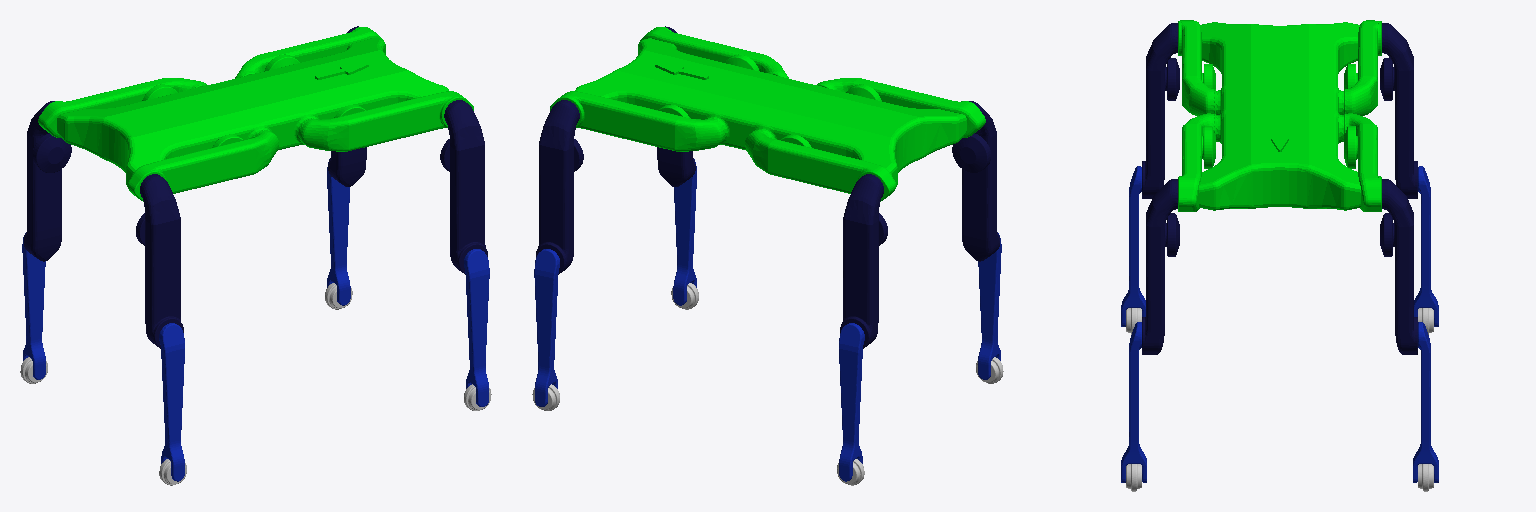
robot.urdf — solo:
<?xml version="1.0" ?>
<!-- =================================================================================== -->
<!-- |    This document was autogenerated by xacro from /usr/local/lib/python3.9/site-packages/robot_properties_solo/resources/xacro/solo8.urdf.xacro | -->
<!-- |    EDITING THIS FILE BY HAND IS NOT RECOMMENDED                                 | -->
<!-- =================================================================================== -->
<robot name="solo" xmlns:controller="http://playerstage.sourceforge.net/gazebo/xmlschema/#controller" xmlns:interface="http://playerstage.sourceforge.net/gazebo/xmlschema/#interface" xmlns:sensor="http://playerstage.sourceforge.net/gazebo/xmlschema/#sensor" xmlns:xacro="http://playerstage.sourceforge.net/gazebo/xmlschema/#interface">
  <!-- This file is based on: https://atlas.is.localnet/confluence/display/AMDW/Quadruped+URDF+Files -->
  <link name="torso_front">
    <!-- BASE LINK INERTIAL -->
    <inertial>
      <origin rpy="0 0 0" xyz="0 0 0"/>
      <mass value="0.71657546"/>
      <!-- The base is extremely symmetrical. -->
      <inertia ixx="0.00289287" ixy="0.0" ixz="0.0" iyy="0.00969054" iyz="0.0" izz="0.01238062"/>
    </inertial>
    <!-- BASE LINK VISUAL -->
    <visual>
      <origin rpy="0 0 0" xyz="0 0 0"/>
      <geometry>
        <mesh filename="../meshes/solo_torso_front.dae"/>
      </geometry>
      <material name="ftorso_mat">
        <color rgba="0.0 0.9 0.1 1"/>
      </material>
    </visual>
    <!-- BASE LINK COLLISION -->
    <collision>
      <origin rpy="0 0 0" xyz="0 0 0"/>
      <geometry>
        <mesh filename="../meshes/solo_torso_front.dae"/>
      </geometry>
    </collision>
    <!-- Bullet specific paramters -->
  </link>
  <!-- SPIN:Between the torso -->
  <joint name="spine_joint" type="fixed">
    <parent link="torso_front"/>
    <child link="torso_back"/>
    <!-- joints rotates around the y-axis -->
    <axis xyz="1 0 0"/>
    <origin rpy="0 0 0" xyz="0 0 0"/>
    <!-- pybullet simulation parameters -->
    <dynamics damping="0.0" friction="0.0"/>
  </joint>
  <link name="torso_back">
    <!-- BASE LINK INERTIAL -->
    <inertial>
      <origin rpy="0 0 0" xyz="0 0 0"/>
      <mass value="0.71657546"/>
      <!-- The base is extremely symmetrical. -->
      <inertia ixx="0.00289287" ixy="0.0" ixz="0.0" iyy="0.00969054" iyz="0.0" izz="0.01238062"/>
    </inertial>
    <!-- BASE LINK VISUAL -->
    <visual>
      <origin rpy="0 0 0" xyz="0 0 0"/>
      <geometry>
        <mesh filename="../meshes/solo_torso_back.dae"/>
      </geometry>
      <material name="btorso_mat">
        <color rgba="0.0 0.9 0.1 1"/>
      </material>
    </visual>
    <!-- BASE LINK COLLISION -->
    <collision>
      <origin rpy="0 0 0" xyz="0 0 0"/>
      <geometry>
        <mesh filename="../meshes/solo_torso_back.dae"/>
      </geometry>
    </collision>
    <!-- Bullet specific paramters -->
  </link>
  <!-- END BASE LINK -->
  <!-- Joint between the base and the ${prefix} upper leg -->
  <joint name="FL_HFE" type="revolute">
    <parent link="torso_front"/>
    <child link="FL_UPPER_LEG"/>
    <limit effort="1.154579" lower="0" upper="1.5707963" velocity="15"/>
    <!-- joints rotates around the y-axis -->
    <axis xyz="0 1 0"/>
    <origin rpy="0 0 0" xyz="0.19 0.1046 0"/>
    <!-- pybullet simulation parameters -->
    <dynamics damping="0.0" friction="0.0"/>
  </joint>
  <link name="FL_UPPER_LEG">
    <!-- Left upper leg inertia -->
    <inertial>
      <origin rpy="0 0 0" xyz="0.00001377 0.01935853 -0.07870700"/>
      <mass value="0.14853845"/>
      <inertia ixx="0.00041107" ixy="0.0" ixz="0.0" iyy="0.00041193" iyz="0.00004671" izz="0.00003024"/>
    </inertial>
    <!-- UPPER LEG LINK VISUAL -->
    <visual>
      <origin rpy="0 0 0" xyz="0 0 0"/>
      <geometry>
        <mesh filename="../meshes/solo_upper_leg_left_side.dae"/>
      </geometry>
      <material name="fthigh_mat">
        <color rgba="0.1 0.1 0.3 1"/>
      </material>
    </visual>
    <!-- UPPER LEG LINK COLLISION -->
    <collision>
      <origin rpy="0 0 0" xyz="0 0 0"/>
      <geometry>
        <mesh filename="../meshes/solo_upper_leg_left_side.dae"/>
      </geometry>
    </collision>
    <!-- Bullet specific paramters -->
  </link>
  <!-- END UPPER LEG LINK -->
  <!-- KFE: Joint between the upper leg and the lower leg -->
  <joint name="FL_KFE" type="revolute">
    <parent link="FL_UPPER_LEG"/>
    <child link="FL_LOWER_LEG"/>
    <limit effort="1.154579" lower="-3.14" upper="0" velocity="15"/>
    <!-- joints rotates around the y-axis -->
    <axis xyz="0 1 0"/>
    <origin rpy="0 0 0" xyz="0 0.037450000000000004 -0.16"/>
    <!-- pybullet simulation parameters -->
    <dynamics damping="0.0" friction="0.0"/>
  </joint>
  <link name="FL_LOWER_LEG">
    <!-- Left lower leg inertia -->
    <inertial>
      <origin rpy="0 0 0" xyz="0.0 0.00787644 -0.08928215"/>
      <mass value="0.03070001"/>
      <inertia ixx="0.00012024" ixy="0.0" ixz="0.0" iyy="0.00012029" iyz="0.00000305" izz="0.00000216"/>
    </inertial>
    <!-- LOWER LEG LINK VISUAL -->
    <visual>
      <origin rpy="0 0 0" xyz="0 0 0"/>
      <geometry>
        <mesh filename="../meshes/solo_lower_leg_left_side.dae"/>
      </geometry>
      <material name="fshin_mat">
        <color rgba="0.1 0.2 0.7 0.4"/>
      </material>
    </visual>
    <!-- LOWER LEG LINK COLLISION -->
    <collision>
      <origin rpy="0 0 0" xyz="0 0 0"/>
      <geometry>
        <mesh filename="../meshes/solo_lower_leg_left_side.dae"/>
      </geometry>
    </collision>
    <!-- Bullet specific paramters -->
  </link>
  <!-- END LOWER LEG LINK -->
  <!-- KFE: Joint between the upper leg and the lower leg -->
  <joint name="FL_ANKLE" type="fixed" dont_collapse="true">
    <parent link="FL_LOWER_LEG"/>
    <child link="FL_FOOT"/>
    <origin rpy="0 0 0" xyz="0 0.008 -0.16"/>
    <!-- pybullet simulation parameters -->
    <dynamics damping="0.0" friction="0.0"/>
  </joint>
  <link name="FL_FOOT">
    <!-- FOOT INERTIAL -->
    <!-- This link is symmetrical left or right -->
    <inertial>
      <origin rpy="0 0 0" xyz="0 0 0.00035767"/>
      <mass value="0.00693606"/>
      <inertia ixx="0.00000057" ixy="0.0" ixz="0.0" iyy="0.00000084" iyz="0.0" izz="0.00000053"/>
    </inertial>
    <!-- FOOT VISUAL -->
    <visual>
      <origin rpy="0 0 0" xyz="0 0 0"/>
      <geometry>
        <mesh filename="../meshes/solo_foot.dae"/>
      </geometry>
      <material name="grey">
        <color rgba="0.8 0.8 0.8 1.0"/>
      </material>
    </visual>
    <!-- FOOT COLLISION -->
    <collision>
      <origin rpy="0 0 0" xyz="0 0 0"/>
      <geometry>
        <sphere radius="0.02"/>
      </geometry>
    </collision>
    <!-- Bullet specific paramters -->
  </link>
  <!-- END LOWER LEG LINK -->
  <!-- Joint between the base and the ${prefix} upper leg -->
  <joint name="FR_HFE" type="revolute">
    <parent link="torso_front"/>
    <child link="FR_UPPER_LEG"/>
    <limit effort="1.154579" lower="0" upper="1.5707963" velocity="15"/>
    <!-- joints rotates around the y-axis -->
    <axis xyz="0 1 0"/>
    <origin rpy="0 0 0" xyz="0.19 -0.1046 0"/>
    <!-- pybullet simulation parameters -->
    <dynamics damping="0.0" friction="0.0"/>
  </joint>
  <link name="FR_UPPER_LEG">
    <!-- Right upper leg inertia -->
    <inertial>
      <origin rpy="0 0 0" xyz="-0.00001377 -0.01935853 -0.07870700"/>
      <mass value="0.14853845"/>
      <inertia ixx="0.00041107" ixy="0.0" ixz="0.0" iyy="0.00041193" iyz="-0.00004671" izz="0.00003024"/>
    </inertial>
    <!-- UPPER LEG LINK VISUAL -->
    <visual>
      <origin rpy="0 0 0" xyz="0 0 0"/>
      <geometry>
        <mesh filename="../meshes/solo_upper_leg_right_side.dae"/>
      </geometry>
      <material name="fthigh_mat">
        <color rgba="0.1 0.1 0.3 1"/>
      </material>
    </visual>
    <!-- UPPER LEG LINK COLLISION -->
    <collision>
      <origin rpy="0 0 0" xyz="0 0 0"/>
      <geometry>
        <mesh filename="../meshes/solo_upper_leg_right_side.dae"/>
      </geometry>
    </collision>
    <!-- Bullet specific paramters -->
  </link>
  <!-- END UPPER LEG LINK -->
  <!-- KFE: Joint between the upper leg and the lower leg -->
  <joint name="FR_KFE" type="revolute">
    <parent link="FR_UPPER_LEG"/>
    <child link="FR_LOWER_LEG"/>
    <limit effort="1.154579" lower="-3.14" upper="0" velocity="15"/>
    <!-- joints rotates around the y-axis -->
    <axis xyz="0 1 0"/>
    <origin rpy="0 0 0" xyz="0 -0.037450000000000004 -0.16"/>
    <!-- pybullet simulation parameters -->
    <dynamics damping="0.0" friction="0.0"/>
  </joint>
  <link name="FR_LOWER_LEG">
    <!-- Right lower leg inertia -->
    <inertial>
      <origin rpy="0 0 0" xyz="0.0 0.00787644 -0.08928215"/>
      <mass value="0.03070001"/>
      <inertia ixx="0.00012024" ixy="0.0" ixz="0.0" iyy="0.00012029" iyz="-0.00000305" izz="0.00000216"/>
    </inertial>
    <!-- LOWER LEG LINK VISUAL -->
    <visual>
      <origin rpy="0 0 0" xyz="0 0 0"/>
      <geometry>
        <mesh filename="../meshes/solo_lower_leg_right_side.dae"/>
      </geometry>
      <material name="fshin_mat">
        <color rgba="0.1 0.2 0.7 0.4"/>
      </material>
    </visual>
    <!-- LOWER LEG LINK COLLISION -->
    <collision>
      <origin rpy="0 0 0" xyz="0 0 0"/>
      <geometry>
        <mesh filename="../meshes/solo_lower_leg_right_side.dae"/>
      </geometry>
    </collision>
    <!-- Bullet specific paramters -->
  </link>
  <!-- END LOWER LEG LINK -->
  <!-- KFE: Joint between the upper leg and the lower leg -->
  <joint name="FR_ANKLE" type="fixed" dont_collapse="true">
    <parent link="FR_LOWER_LEG"/>
    <child link="FR_FOOT"/>
    <origin rpy="0 0 0" xyz="0 -0.008 -0.16"/>
    <!-- pybullet simulation parameters -->
    <dynamics damping="0.0" friction="0.0"/>
  </joint>
  <link name="FR_FOOT">
    <!-- FOOT INERTIAL -->
    <!-- This link is symmetrical left or right -->
    <inertial>
      <origin rpy="0 0 0" xyz="0 0 0.00035767"/>
      <mass value="0.00693606"/>
      <inertia ixx="0.00000057" ixy="0.0" ixz="0.0" iyy="0.00000084" iyz="0.0" izz="0.00000053"/>
    </inertial>
    <!-- FOOT VISUAL -->
    <visual>
      <origin rpy="0 0 0" xyz="0 0 0"/>
      <geometry>
        <mesh filename="../meshes/solo_foot.dae"/>
      </geometry>
      <material name="grey">
        <color rgba="0.8 0.8 0.8 1.0"/>
      </material>
    </visual>
    <!-- FOOT COLLISION -->
    <collision>
      <origin rpy="0 0 0" xyz="0 0 0"/>
      <geometry>
        <sphere radius="0.02"/>
      </geometry>
    </collision>
    <!-- Bullet specific paramters -->
  </link>
  <!-- END LOWER LEG LINK -->
  <!-- Joint between the base and the ${prefix} upper leg -->
  <joint name="HL_HFE" type="revolute">
    <parent link="torso_back"/>
    <child link="HL_UPPER_LEG"/>
    <limit effort="1.154579" lower="-1.5707963" upper="0" velocity="15"/>
    <!-- joints rotates around the y-axis -->
    <axis xyz="0 1 0"/>
    <origin rpy="0 0 0" xyz="-0.19 0.1046 0"/>
    <!-- pybullet simulation parameters -->
    <dynamics damping="0.0" friction="0.0"/>
  </joint>
  <link name="HL_UPPER_LEG">
    <!-- Left upper leg inertia -->
    <inertial>
      <origin rpy="0 0 0" xyz="0.00001377 0.01935853 -0.07870700"/>
      <mass value="0.14853845"/>
      <inertia ixx="0.00041107" ixy="0.0" ixz="0.0" iyy="0.00041193" iyz="0.00004671" izz="0.00003024"/>
    </inertial>
    <!-- UPPER LEG LINK VISUAL -->
    <visual>
      <origin rpy="0 0 0" xyz="0 0 0"/>
      <geometry>
        <mesh filename="../meshes/solo_upper_leg_left_side.dae"/>
      </geometry>
      <material name="bthigh_mat">
        <color rgba="0.1 0.1 0.3 1"/>
      </material>
    </visual>
    <!-- UPPER LEG LINK COLLISION -->
    <collision>
      <origin rpy="0 0 0" xyz="0 0 0"/>
      <geometry>
        <mesh filename="../meshes/solo_upper_leg_left_side.dae"/>
      </geometry>
    </collision>
    <!-- Bullet specific paramters -->
  </link>
  <!-- END UPPER LEG LINK -->
  <!-- KFE: Joint between the upper leg and the lower leg -->
  <joint name="HL_KFE" type="revolute">
    <parent link="HL_UPPER_LEG"/>
    <child link="HL_LOWER_LEG"/>
    <limit effort="1.154579" lower="0" upper="3.14" velocity="15"/>
    <!-- joints rotates around the y-axis -->
    <axis xyz="0 1 0"/>
    <origin rpy="0 0 0" xyz="0 0.037450000000000004 -0.16"/>
    <!-- pybullet simulation parameters -->
    <dynamics damping="0.0" friction="0.0"/>
  </joint>
  <link name="HL_LOWER_LEG">
    <!-- Left lower leg inertia -->
    <inertial>
      <origin rpy="0 0 0" xyz="0.0 0.00787644 -0.08928215"/>
      <mass value="0.03070001"/>
      <inertia ixx="0.00012024" ixy="0.0" ixz="0.0" iyy="0.00012029" iyz="0.00000305" izz="0.00000216"/>
    </inertial>
    <!-- LOWER LEG LINK VISUAL -->
    <visual>
      <origin rpy="0 0 0" xyz="0 0 0"/>
      <geometry>
        <mesh filename="../meshes/solo_lower_leg_left_side.dae"/>
      </geometry>
      <material name="bshin_mat">
        <color rgba="0.1 0.2 0.7 0.4"/>
      </material>
    </visual>
    <!-- LOWER LEG LINK COLLISION -->
    <collision>
      <origin rpy="0 0 0" xyz="0 0 0"/>
      <geometry>
        <mesh filename="../meshes/solo_lower_leg_left_side.dae"/>
      </geometry>
    </collision>
    <!-- Bullet specific paramters -->
  </link>
  <!-- END LOWER LEG LINK -->
  <!-- KFE: Joint between the upper leg and the lower leg -->
  <joint name="HL_ANKLE" type="fixed" dont_collapse="true">
    <parent link="HL_LOWER_LEG"/>
    <child link="HL_FOOT"/>
    <origin rpy="0 0 0" xyz="0 0.008 -0.16"/>
    <!-- pybullet simulation parameters -->
    <dynamics damping="0.0" friction="0.0"/>
  </joint>
  <link name="HL_FOOT">
    <!-- FOOT INERTIAL -->
    <!-- This link is symmetrical left or right -->
    <inertial>
      <origin rpy="0 0 0" xyz="0 0 0.00035767"/>
      <mass value="0.00693606"/>
      <inertia ixx="0.00000057" ixy="0.0" ixz="0.0" iyy="0.00000084" iyz="0.0" izz="0.00000053"/>
    </inertial>
    <!-- FOOT VISUAL -->
    <visual>
      <origin rpy="0 0 0" xyz="0 0 0"/>
      <geometry>
        <mesh filename="../meshes/solo_foot.dae"/>
      </geometry>
      <material name="grey">
        <color rgba="0.8 0.8 0.8 1.0"/>
      </material>
    </visual>
    <!-- FOOT COLLISION -->
    <collision>
      <origin rpy="0 0 0" xyz="0 0 0"/>
      <geometry>
        <sphere radius="0.02"/>
      </geometry>
    </collision>
    <!-- Bullet specific paramters -->
  </link>
  <!-- END LOWER LEG LINK -->
  <!-- Joint between the base and the ${prefix} upper leg -->
  <joint name="HR_HFE" type="revolute">
    <parent link="torso_back"/>
    <child link="HR_UPPER_LEG"/>
    <!-- joints rotates around the y-axis -->
    <limit effort="1.154579" lower="-1.5707963" upper="0" velocity="15"/>
    <axis xyz="0 1 0"/>
    <origin rpy="0 0 0" xyz="-0.19 -0.1046 0"/>
    <!-- pybullet simulation parameters -->
    <dynamics damping="0.0" friction="0.0"/>
  </joint>
  <link name="HR_UPPER_LEG">
    <!-- Right upper leg inertia -->
    <inertial>
      <origin rpy="0 0 0" xyz="-0.00001377 -0.01935853 -0.07870700"/>
      <mass value="0.14853845"/>
      <inertia ixx="0.00041107" ixy="0.0" ixz="0.0" iyy="0.00041193" iyz="-0.00004671" izz="0.00003024"/>
    </inertial>
    <!-- UPPER LEG LINK VISUAL -->
    <visual>
      <origin rpy="0 0 0" xyz="0 0 0"/>
      <geometry>
        <mesh filename="../meshes/solo_upper_leg_right_side.dae"/>
      </geometry>
      <material name="bthigh_mat">
        <color rgba="0.1 0.1 0.3 1"/>
      </material>
    </visual>
    <!-- UPPER LEG LINK COLLISION -->
    <collision>
      <origin rpy="0 0 0" xyz="0 0 0"/>
      <geometry>
        <mesh filename="../meshes/solo_upper_leg_right_side.dae"/>
      </geometry>
    </collision>
    <!-- Bullet specific paramters -->
  </link>
  <!-- END UPPER LEG LINK -->
  <!-- KFE: Joint between the upper leg and the lower leg -->
  <joint name="HR_KFE" type="revolute">
    <parent link="HR_UPPER_LEG"/>
    <child link="HR_LOWER_LEG"/>
    <limit effort="1.154579" lower="0" upper="3.14" velocity="15"/>
    <!-- joints rotates around the y-axis -->
    <axis xyz="0 1 0"/>
    <origin rpy="0 0 0" xyz="0 -0.037450000000000004 -0.16"/>
    <!-- pybullet simulation parameters -->
    <dynamics damping="0.0" friction="0.0"/>
  </joint>
  <link name="HR_LOWER_LEG">
    <!-- Right lower leg inertia -->
    <inertial>
      <origin rpy="0 0 0" xyz="0.0 0.00787644 -0.08928215"/>
      <mass value="0.03070001"/>
      <inertia ixx="0.00012024" ixy="0.0" ixz="0.0" iyy="0.00012029" iyz="-0.00000305" izz="0.00000216"/>
    </inertial>
    <!-- LOWER LEG LINK VISUAL -->
    <visual>
      <origin rpy="0 0 0" xyz="0 0 0"/>
      <geometry>
        <mesh filename="../meshes/solo_lower_leg_right_side.dae"/>
      </geometry>
      <material name="bshin_mat">
        <color rgba="0.1 0.2 0.7 0.4"/>
      </material>
    </visual>
    <!-- LOWER LEG LINK COLLISION -->
    <collision>
      <origin rpy="0 0 0" xyz="0 0 0"/>
      <geometry>
        <mesh filename="../meshes/solo_lower_leg_right_side.dae"/>
      </geometry>
    </collision>
    <!-- Bullet specific paramters -->
  </link>
  <!-- END LOWER LEG LINK -->
  <!-- KFE: Joint between the upper leg and the lower leg -->
  <joint name="HR_ANKLE" type="fixed" dont_collapse="true">
    <parent link="HR_LOWER_LEG"/>
    <child link="HR_FOOT"/>
    <origin rpy="0 0 0" xyz="0 -0.008 -0.16"/>
    <!-- pybullet simulation parameters -->
    <dynamics damping="0.0" friction="0.0"/>
  </joint>
  <link name="HR_FOOT">
    <!-- FOOT INERTIAL -->
    <!-- This link is symmetrical left or right -->
    <inertial>
      <origin rpy="0 0 0" xyz="0 0 0.00035767"/>
      <mass value="0.00693606"/>
      <inertia ixx="0.00000057" ixy="0.0" ixz="0.0" iyy="0.00000084" iyz="0.0" izz="0.00000053"/>
    </inertial>
    <!-- FOOT VISUAL -->
    <visual>
      <origin rpy="0 0 0" xyz="0 0 0"/>
      <geometry>
        <mesh filename="../meshes/solo_foot.dae"/>
      </geometry>
      <material name="grey">
        <color rgba="0.8 0.8 0.8 1.0"/>
      </material>
    </visual>
    <!-- FOOT COLLISION -->
    <collision>
      <origin rpy="0 0 0" xyz="0 0 0"/>
      <geometry>
        <sphere radius="0.02"/>
      </geometry>
    </collision>
    <!-- Bullet specific paramters -->
  </link>
  <!-- END LOWER LEG LINK -->
</robot>

--- Render facts (derived) ---
3 views of the same robot in one strip: view 1: azimuth 30°, elevation 25°; view 2: azimuth 150°, elevation 25°; view 3: azimuth 270°, elevation 25° (orthographic).
Model solo with 14 links and 13 joints (8 revolute, 5 fixed), rooted at torso_front, posed all joints at 0.
Visible links, largest first — view 1: torso_back, torso_front, HR_UPPER_LEG, FR_UPPER_LEG, HL_UPPER_LEG, HR_LOWER_LEG, FR_LOWER_LEG, FL_LOWER_LEG, HL_LOWER_LEG, FL_UPPER_LEG; view 2: torso_back, torso_front, HL_UPPER_LEG, FL_UPPER_LEG, HR_UPPER_LEG, HL_LOWER_LEG, FL_LOWER_LEG, FR_LOWER_LEG, HR_LOWER_LEG, FR_UPPER_LEG; view 3: torso_front, torso_back, FL_UPPER_LEG, FR_UPPER_LEG, HL_UPPER_LEG, HR_UPPER_LEG, FL_LOWER_LEG, FR_LOWER_LEG, HL_LOWER_LEG, HR_LOWER_LEG.
Link boxes in pixels (x1=…): torso_back: x1=38, y1=78, x2=283, y2=201; torso_front: x1=232, y1=27, x2=473, y2=151; HR_UPPER_LEG: x1=136, y1=174, x2=183, y2=348; FR_UPPER_LEG: x1=440, y1=100, x2=487, y2=274; HL_UPPER_LEG: x1=24, y1=101, x2=71, y2=261; HR_LOWER_LEG: x1=159, y1=323, x2=184, y2=481; FR_LOWER_LEG: x1=464, y1=249, x2=489, y2=406; FL_LOWER_LEG: x1=327, y1=159, x2=350, y2=305; HL_LOWER_LEG: x1=22, y1=233, x2=45, y2=379; FL_UPPER_LEG: x1=328, y1=26, x2=366, y2=186; torso_back: x1=740, y1=78, x2=985, y2=201; torso_front: x1=550, y1=27, x2=791, y2=151; HL_UPPER_LEG: x1=840, y1=174, x2=887, y2=348; FL_UPPER_LEG: x1=536, y1=100, x2=583, y2=274; HR_UPPER_LEG: x1=952, y1=101, x2=999, y2=261; HL_LOWER_LEG: x1=839, y1=323, x2=864, y2=481; FL_LOWER_LEG: x1=534, y1=249, x2=559, y2=406; FR_LOWER_LEG: x1=673, y1=159, x2=696, y2=305; HR_LOWER_LEG: x1=978, y1=233, x2=1001, y2=379; FR_UPPER_LEG: x1=657, y1=26, x2=695, y2=186; torso_front: x1=1178, y1=94, x2=1381, y2=211; torso_back: x1=1178, y1=20, x2=1381, y2=115; FL_UPPER_LEG: x1=1380, y1=179, x2=1417, y2=354; FR_UPPER_LEG: x1=1142, y1=179, x2=1179, y2=354; HL_UPPER_LEG: x1=1380, y1=23, x2=1417, y2=198; HR_UPPER_LEG: x1=1142, y1=23, x2=1179, y2=198; FL_LOWER_LEG: x1=1413, y1=322, x2=1438, y2=482; FR_LOWER_LEG: x1=1121, y1=322, x2=1146, y2=482; HL_LOWER_LEG: x1=1414, y1=166, x2=1438, y2=326; HR_LOWER_LEG: x1=1121, y1=166, x2=1145, y2=326.
Bounding box of the posed robot: 0.4244 × 0.327 × 0.364 m (x, y, z).
14 mesh visuals loaded from 7 distinct referenced files (7 Collada DAE).
